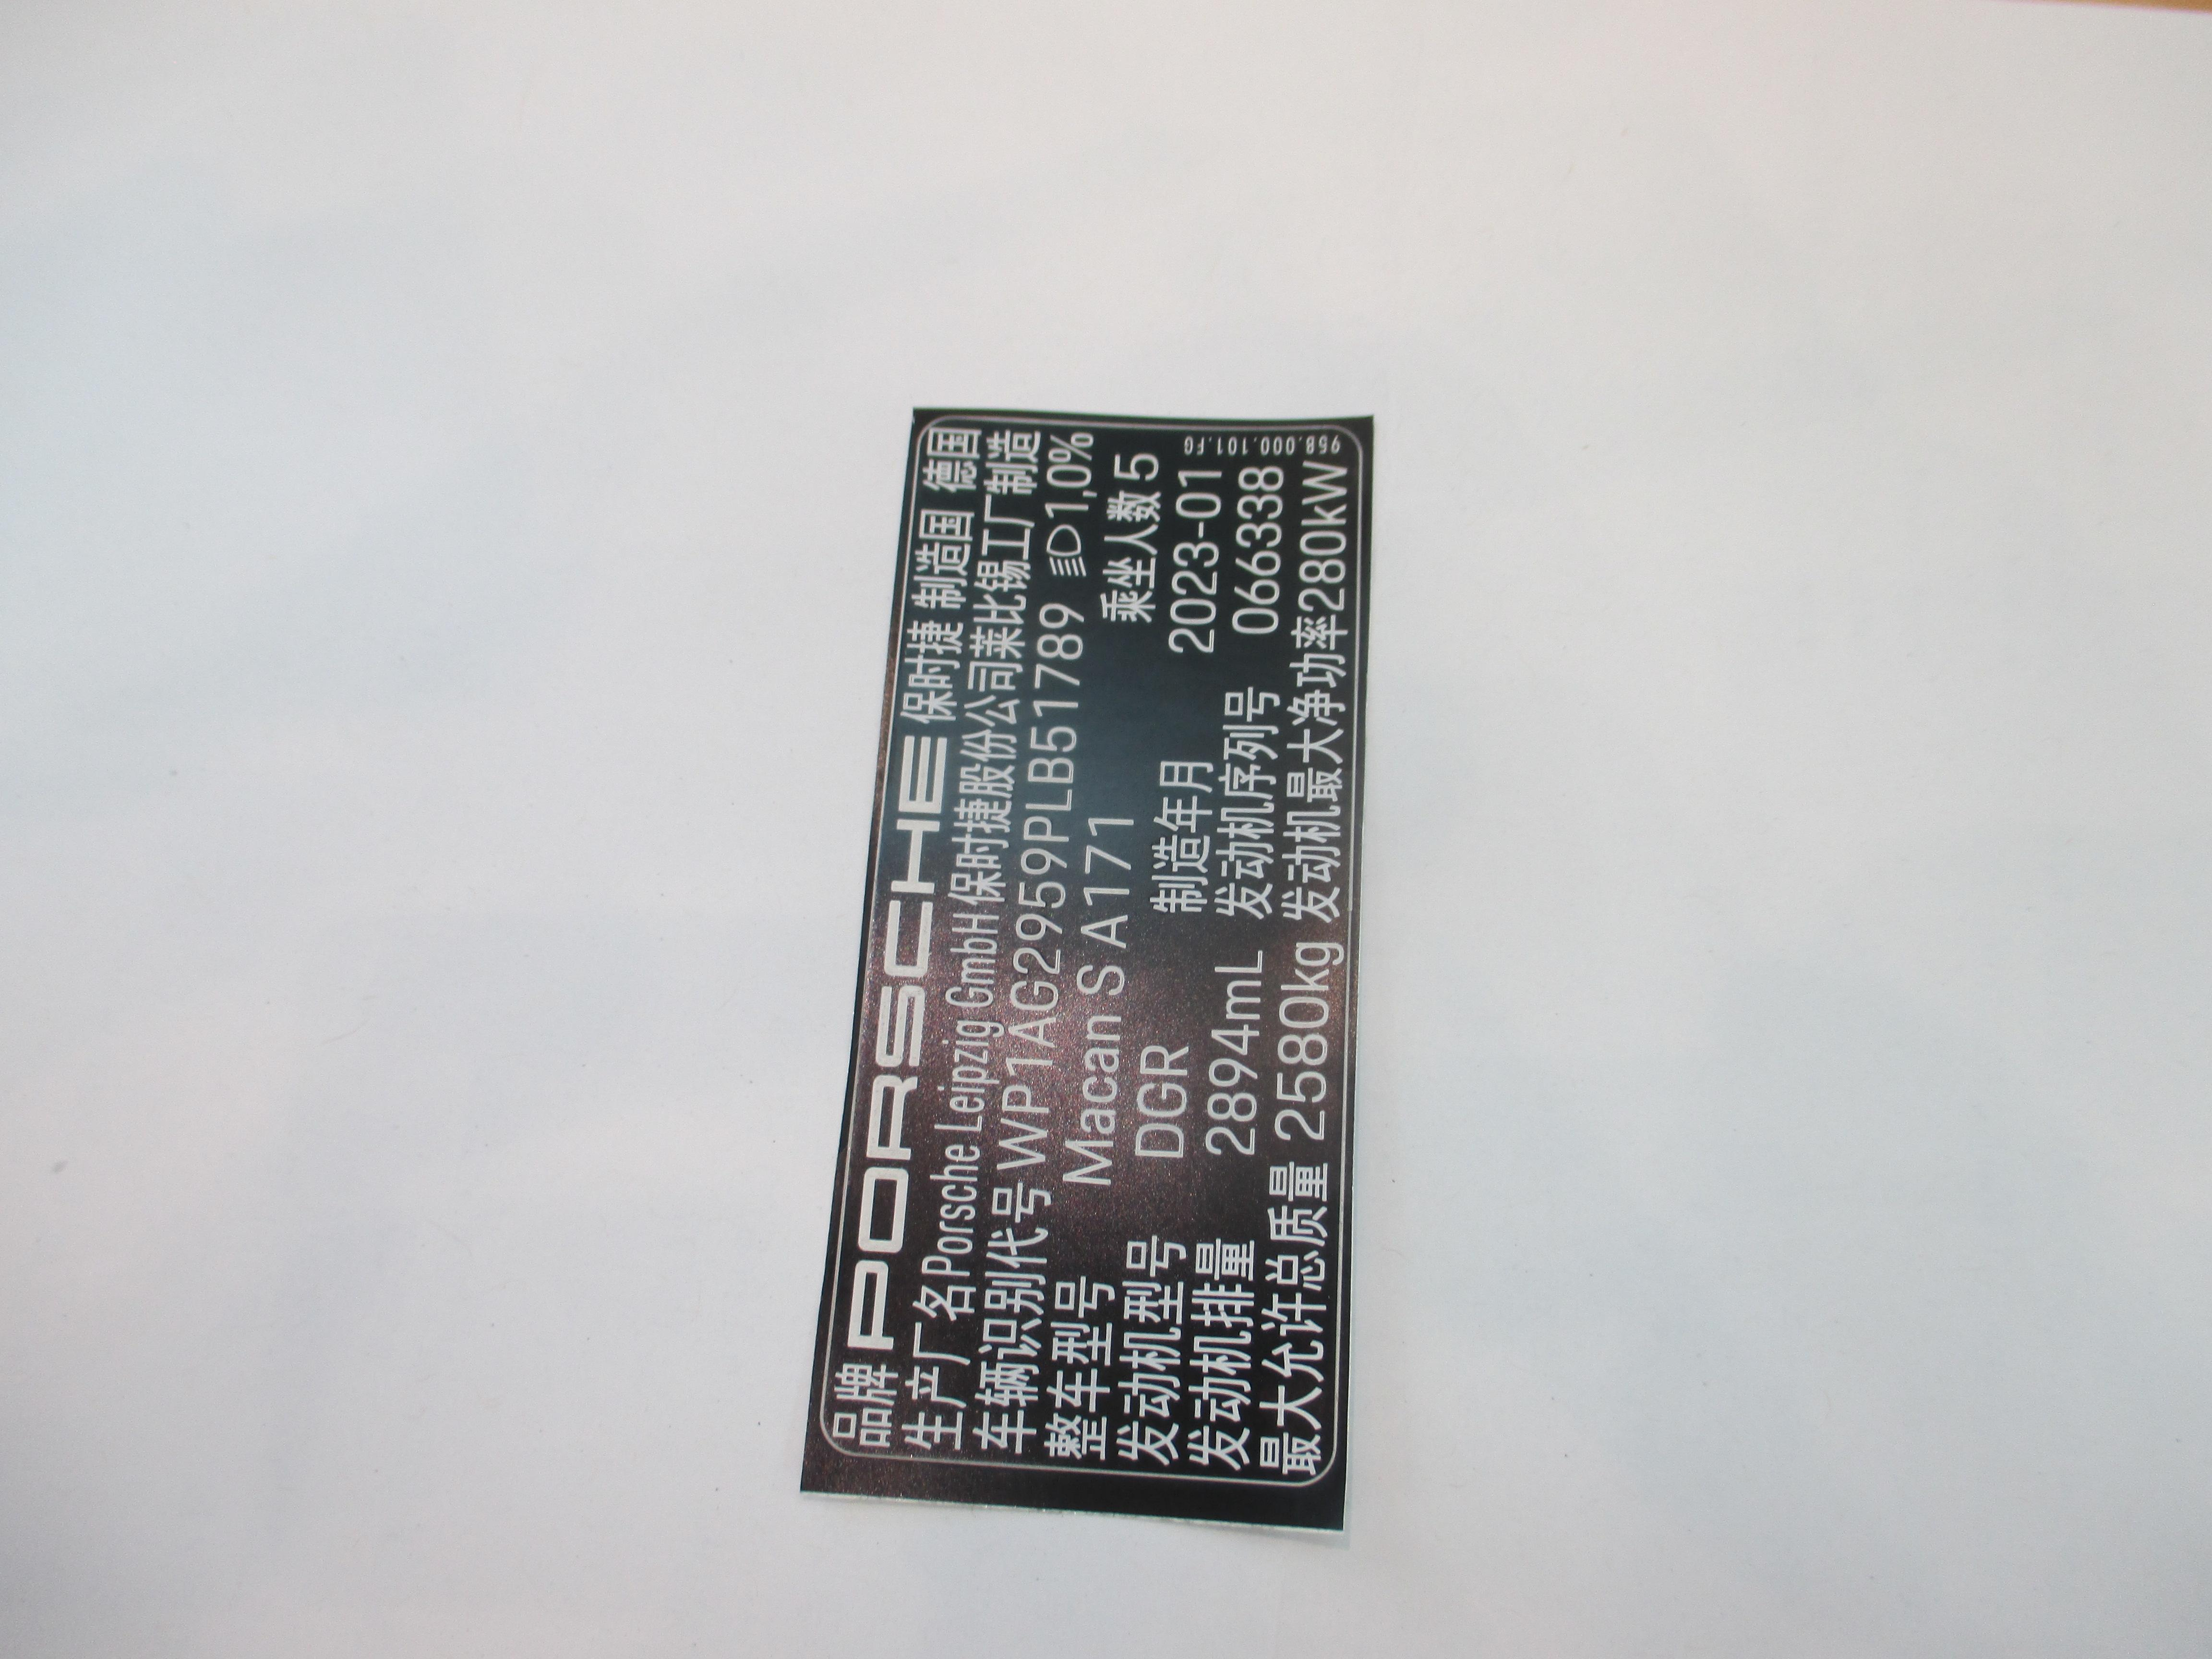Sign: (822, 418, 1362, 1483)
